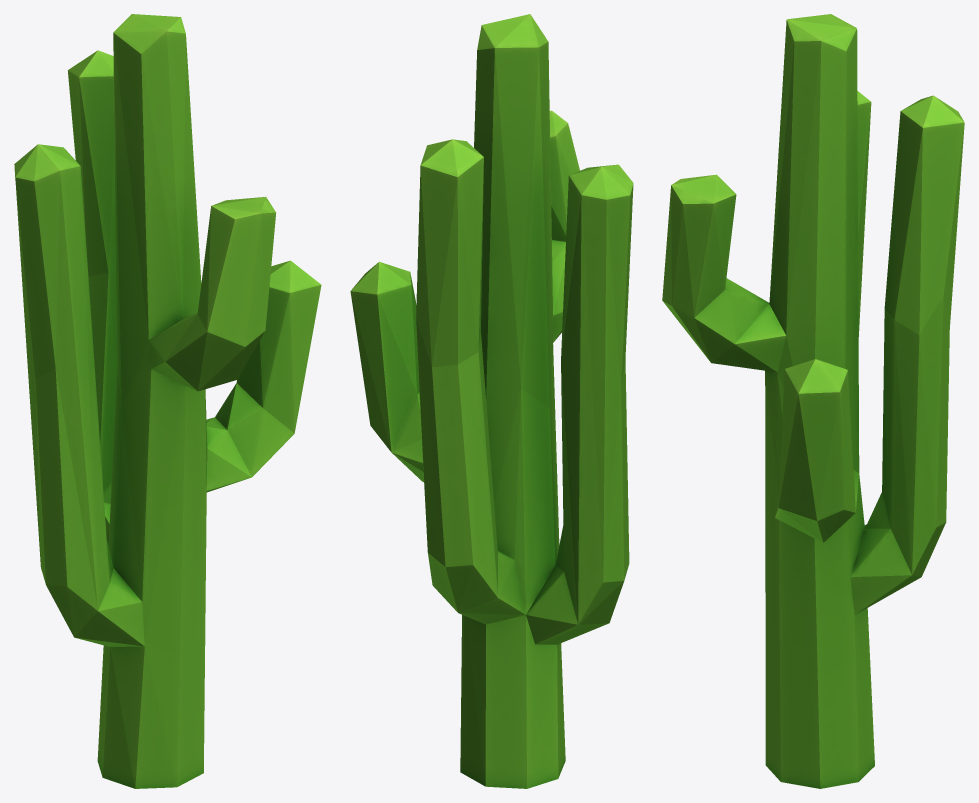
Rendered from Cactus_22.fbx.
3 renders of one model, left to right at view 1: azimuth 30°, elevation 25°; view 2: azimuth 150°, elevation 25°; view 3: azimuth 270°, elevation 25°, orthographic.
Visible parts, largest first — view 1: Cactus_22; view 2: Cactus_22; view 3: Cactus_22.
Part boxes in pixels (<box>): Cactus_22: <box>14,14,321,788</box>; Cactus_22: <box>350,14,633,788</box>; Cactus_22: <box>662,14,964,788</box>.
Bounding box in the file's own units: 44.6 × 40.8 × 111.
1 material, 1 textured.
